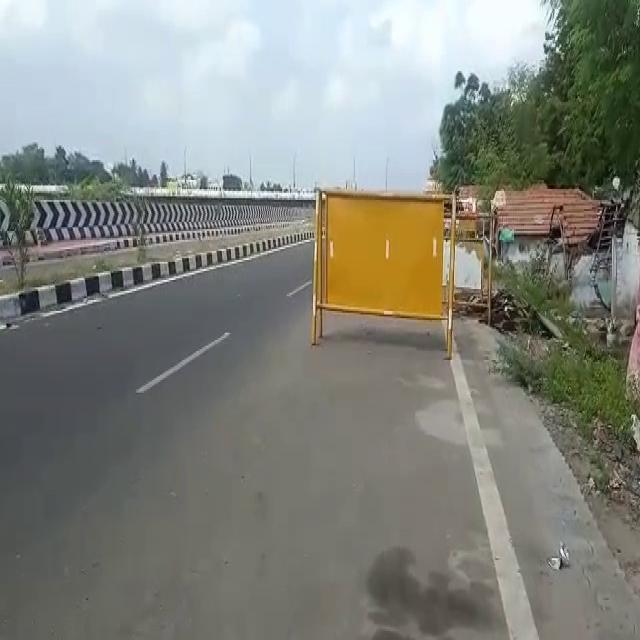fallen_object: (277, 120, 491, 383)
